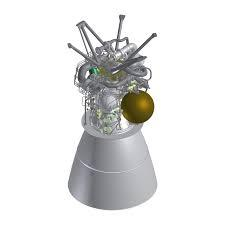thruster: (66, 113, 158, 210)
